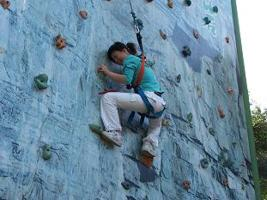person: (98, 42, 166, 159)
